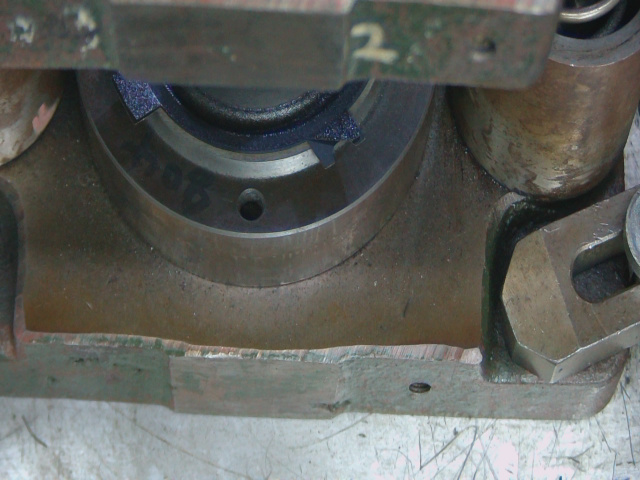OK: (305, 115, 377, 179)
